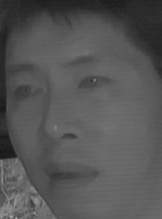eye: (74, 71, 113, 95), (10, 81, 46, 103)
mouth: (42, 158, 100, 197)
